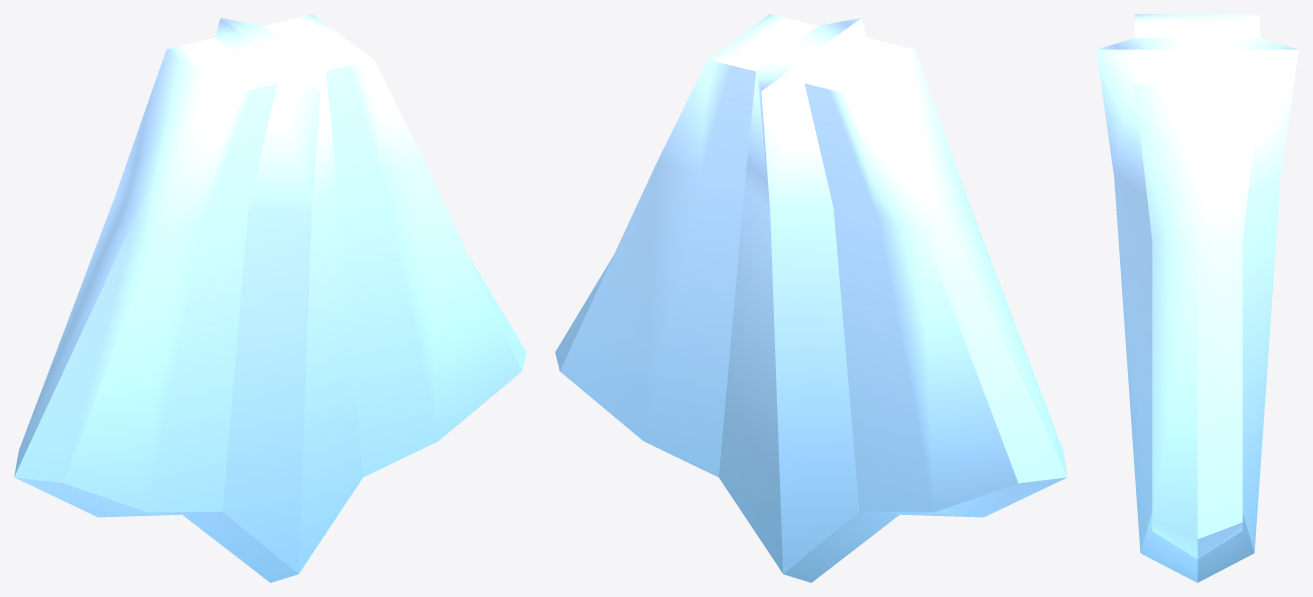
Rendered from steel_pommel_106.glb.
3 renders of one model, left to right at view 1: azimuth 30°, elevation 25°; view 2: azimuth 150°, elevation 25°; view 3: azimuth 270°, elevation 25°, orthographic.
Parts seen in each view (by area): view 1: steel_pommel_106; view 2: steel_pommel_106; view 3: steel_pommel_106.
Part boxes in pixels (x1,y1,x2,y2): steel_pommel_106: (14, 14, 526, 582); steel_pommel_106: (555, 14, 1067, 582); steel_pommel_106: (1096, 14, 1298, 582).
Bounding box in the file's own units: 2.88 × 2.83 × 0.9753.
1 material, 1 textured.
